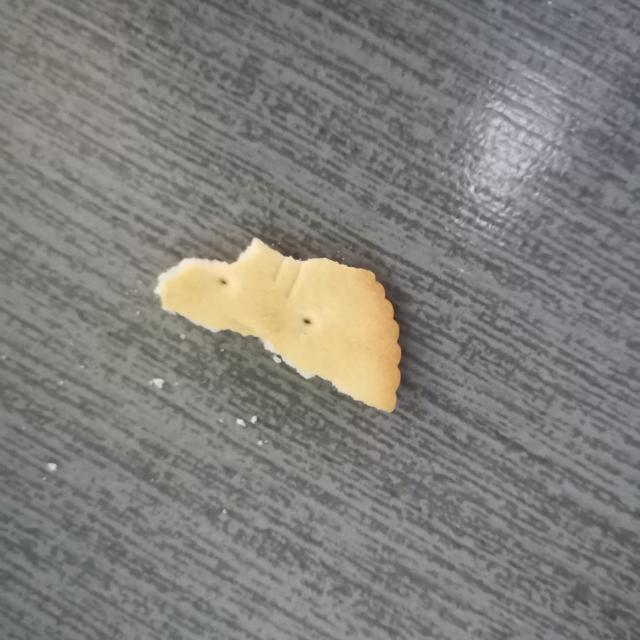Broken: (154, 236, 402, 413)
